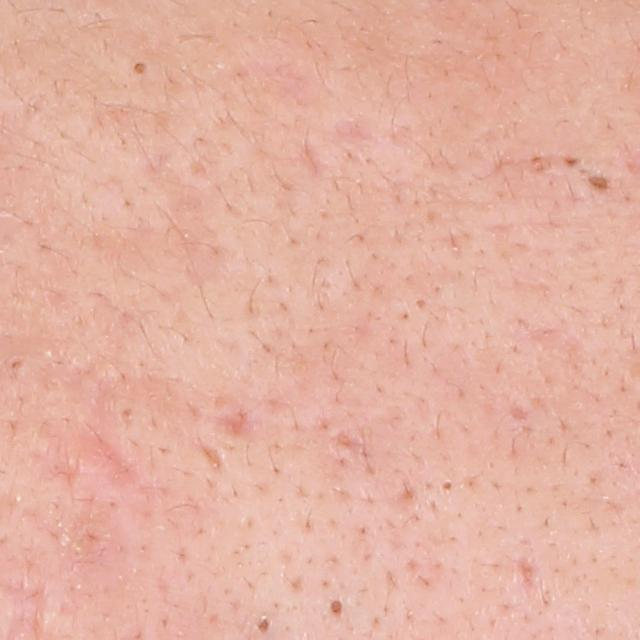atrophic_scar: (210, 407, 255, 444), (298, 134, 329, 179), (197, 438, 232, 477), (514, 555, 543, 593), (509, 401, 535, 422)
comedo: (326, 595, 346, 619), (253, 613, 271, 636), (439, 479, 453, 492)
